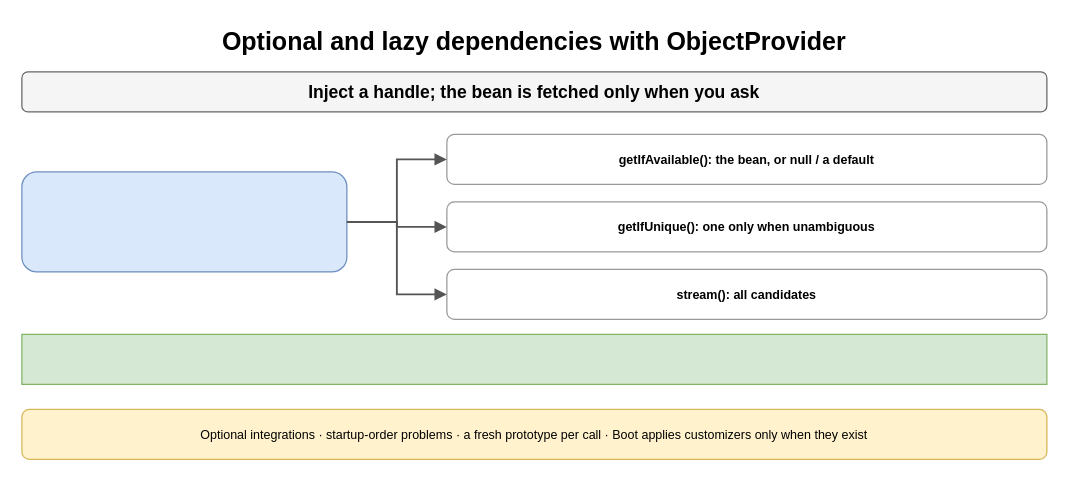
Some shapes in this 1069 by 481 pixel diagram are drawn without their labels. The shapes that lost their labels are listed below. From the top down, each one's centre as x and y in pixels, then its label:
At (x=184, y=221): "CheckoutService( ObjectProvider<LoyaltyProgram>)".
At (x=534, y=358): "points(fee): program == null ? 0 : program.points(fee)".
